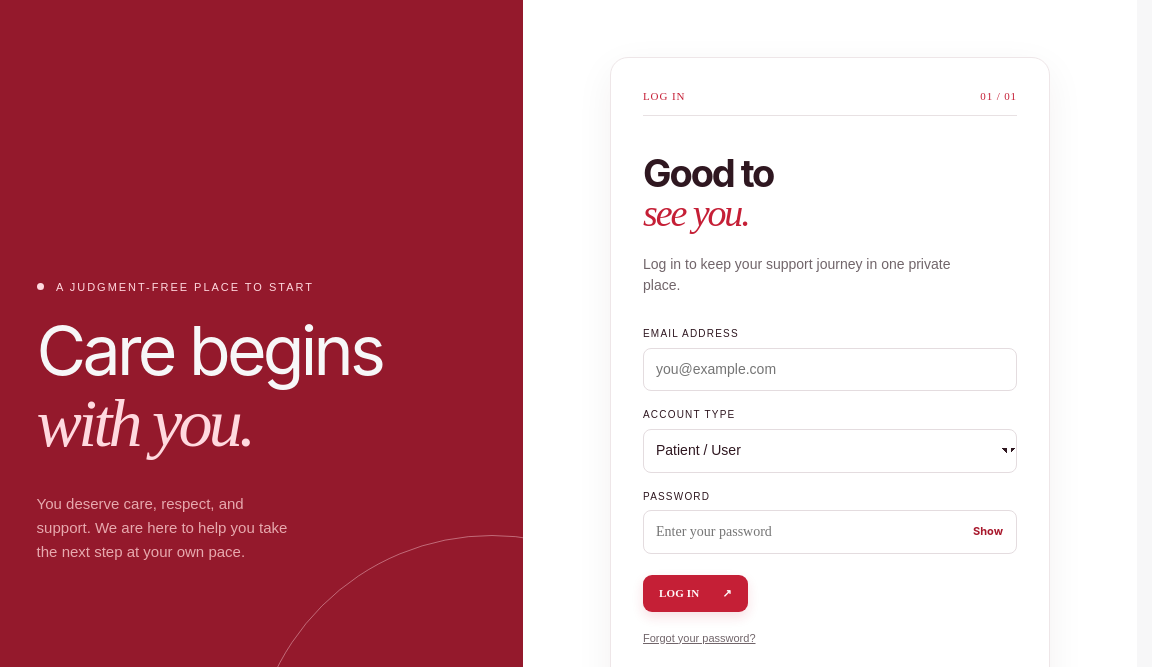
Test: switching from sign in to sign up clears entered credentials and account type
Type "user@example.com" into the field labelled "Email Address".
click(830, 370); type("user@example.com")  # box [643,348,1017,392]
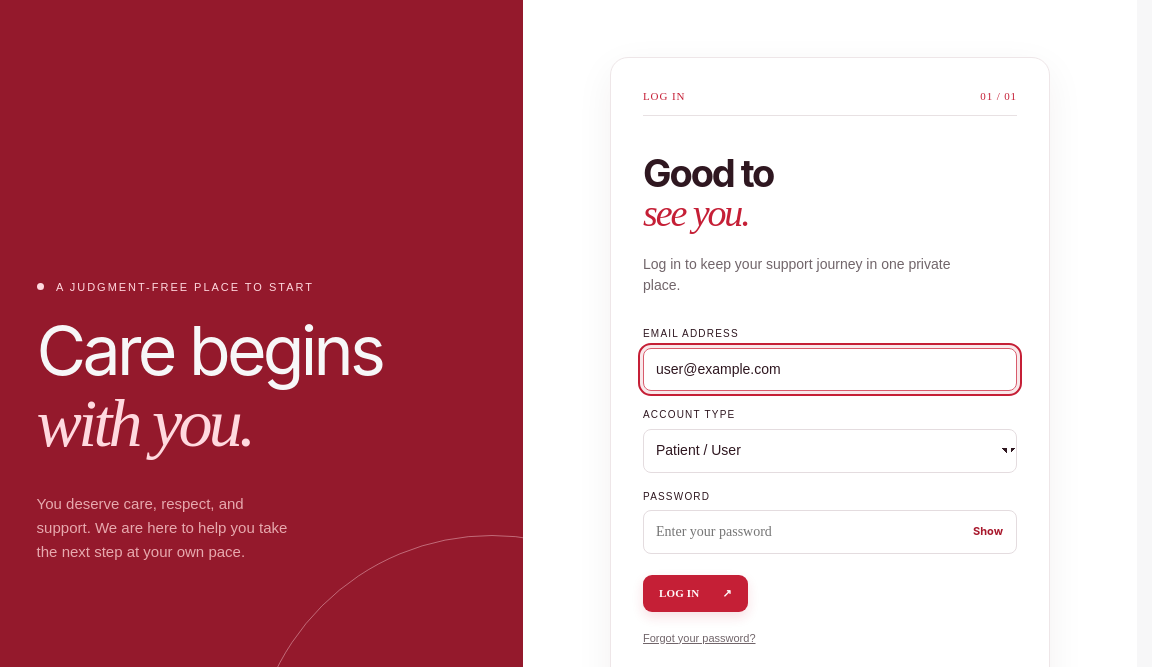
Select "Admin" in the dropdown labelled "Account type" at (830, 451), box [643,429,1017,473]
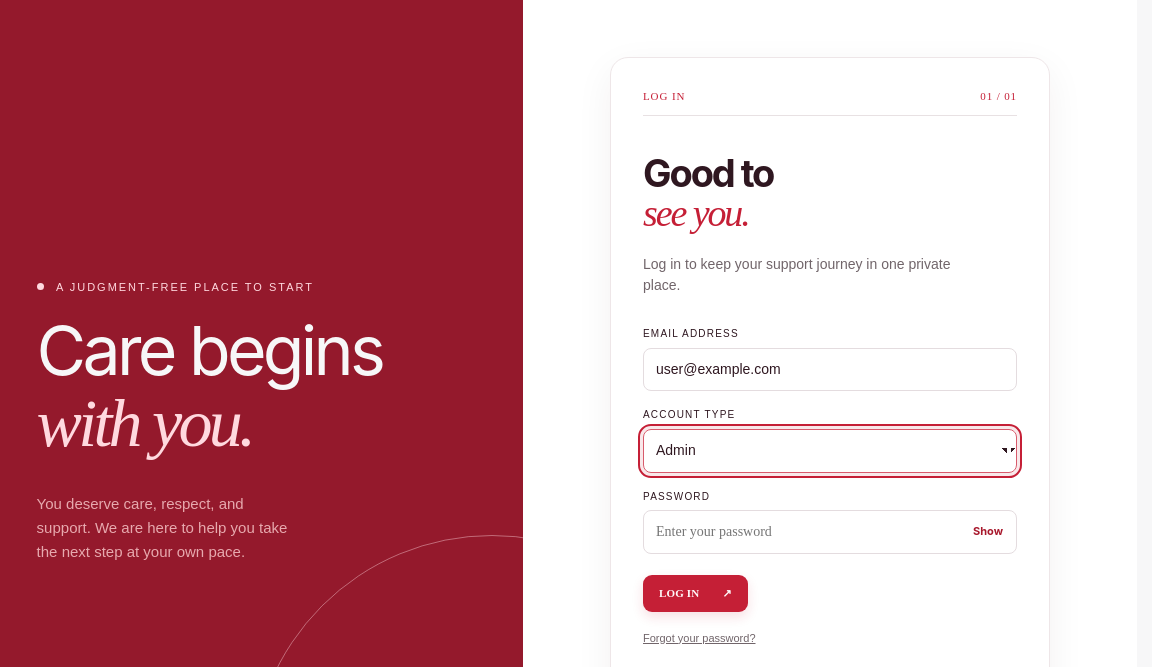
Type "secret-password" into the password field labelled "Password".
click(830, 532); type("secret-password")  # box [643,510,1017,554]
(page scrolled)
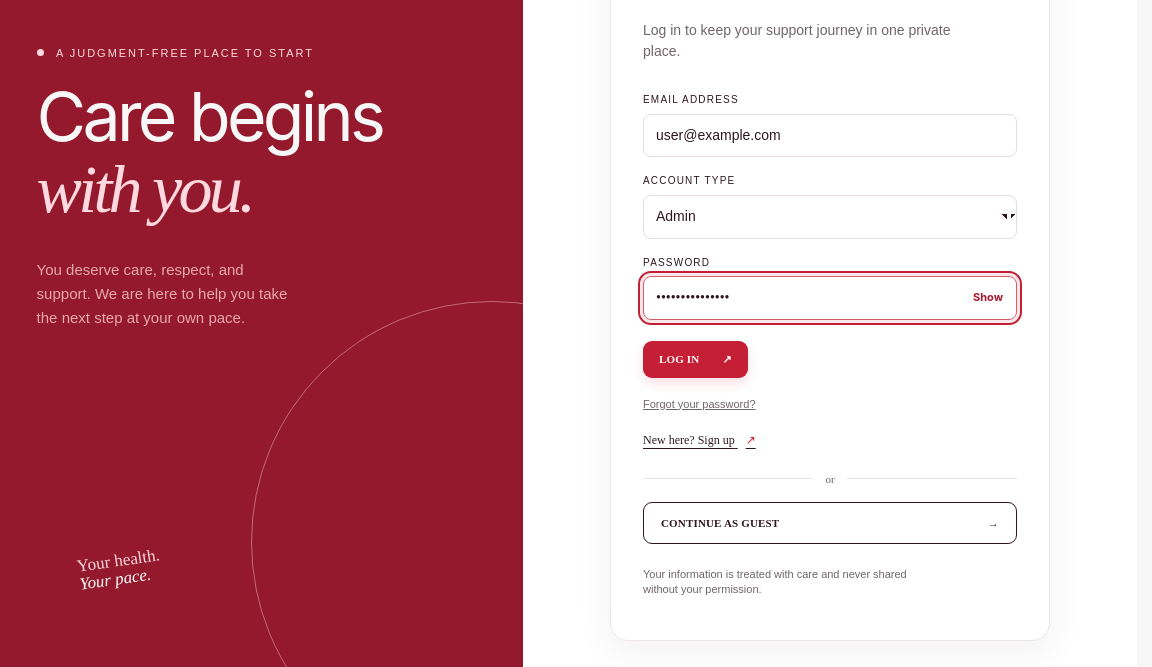
Click the button "New here? Sign up ↗".
click(699, 440)  # box [643,433,756,448]
(page scrolled)
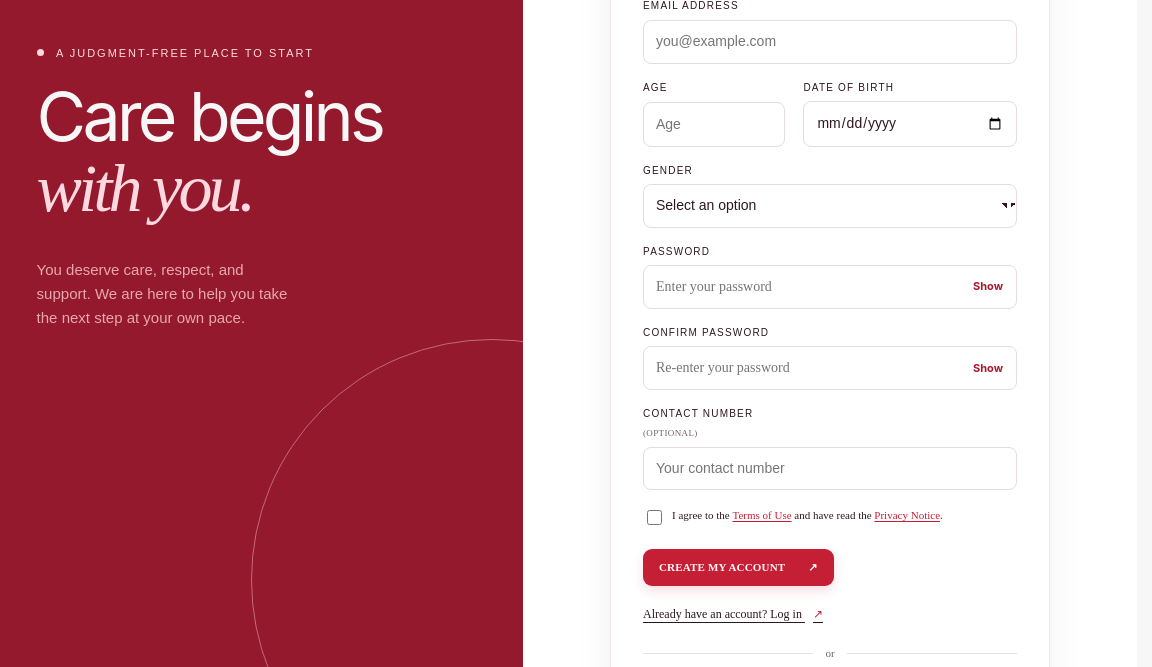
Expected: the field labelled "Email Address" is empty, [643,20,1017,64]
Expected: the password field labelled "Password" is empty, [643,265,1017,309]
Click the button "Already have an account? Log in ↗".
click(733, 615)  # box [643,607,823,622]
(page scrolled)
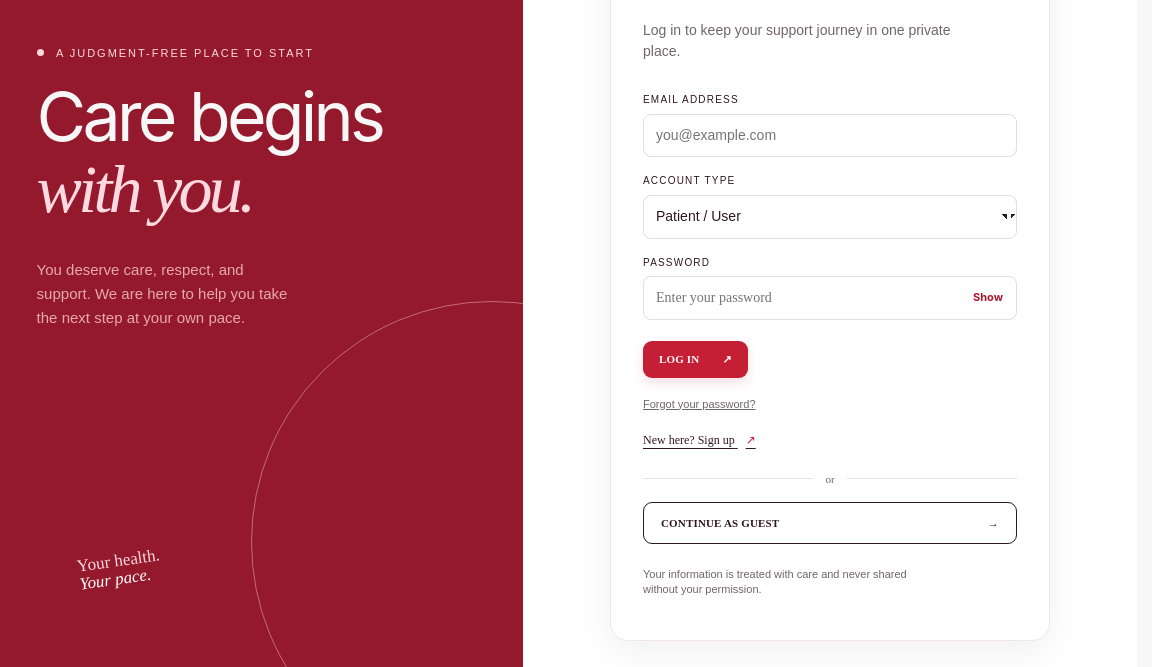
Expected: the field labelled "Email Address" is empty, [643,114,1017,158]
Expected: the dropdown labelled "Account type" shows "Patient / User", [643,195,1017,239]
